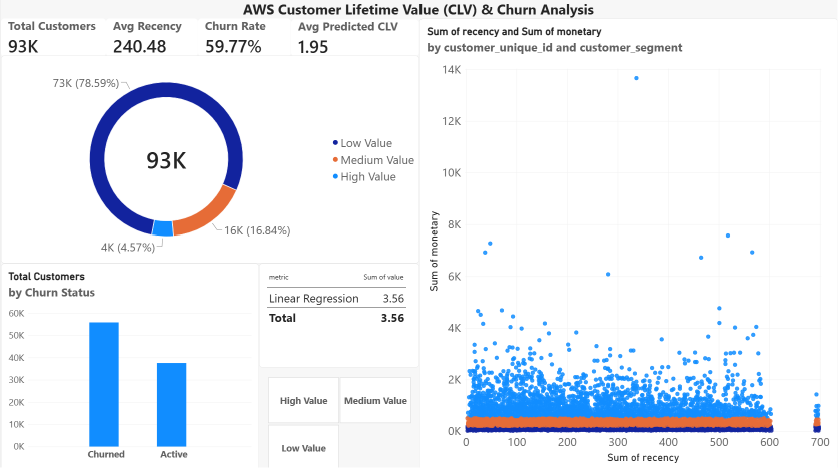

What the dashboard file says about the page in this screenshot:
{"tool":"powerbi","page":{"name":"Page 1","canvas":[1920,1080],"ordinal":0},"visuals":[{"type":"textbox","box":[555.8,0,808.4,43.6],"z":0},{"type":"cardVisual","fields":{"Data":["customer_analytics.Avg Predicted CLV"]},"box":[666,45.9,294,85],"z":1000},{"type":"cardVisual","fields":{"Data":["customer_analytics.Avg Recency"]},"box":[241.1,43.6,211.3,87.3],"z":2000},{"type":"cardVisual","fields":{"Data":["customer_analytics.Churn Rate"]},"box":[452.4,43.6,213.6,87.3],"z":3000},{"type":"cardVisual","fields":{"Data":["customer_analytics.Total Customers"]},"box":[0,43.6,241.1,87.3],"z":4000},{"type":"donutChart","fields":{"Category":["customer_analytics.customer_segment"],"Y":["customer_analytics.Total Customers"]},"box":[0,128.6,960,475.4],"z":5000},{"type":"clusteredColumnChart","fields":{"Category":["customer_analytics.Churn Status"],"Y":["customer_analytics.Total Customers"]},"box":[0,604,592.5,475.4],"z":6000},{"type":"tableEx","fields":{"Values":["clv_model_metrics.metric","Sum(clv_model_metrics.value)"]},"box":[592.5,604,367.5,238.9],"z":7000},{"type":"scatterChart","fields":{"Category":["customer_analytics.customer_unique_id"],"Series":["customer_analytics.customer_segment"],"X":["Sum(customer_analytics.recency)"],"Y":["Sum(customer_analytics.monetary)"]},"box":[960,43.6,960,1035.8],"z":8000},{"type":"slicer","fields":{"Values":["customer_analytics.customer_segment"]},"box":[592.5,863.5,367.5,218.2],"z":9000}]}

Visuals, with their boxes in screenshot pixels (x1, y1, x2, y2), scaled from the page's 1920x1080 canvas onto the 838x468 screenshot:
textbox: bbox(243, 0, 595, 19)
cardVisual - customer_analytics.Avg Predicted CLV: bbox(291, 20, 419, 57)
cardVisual - customer_analytics.Avg Recency: bbox(105, 19, 197, 57)
cardVisual - customer_analytics.Churn Rate: bbox(197, 19, 291, 57)
cardVisual - customer_analytics.Total Customers: bbox(0, 19, 105, 57)
donutChart - customer_analytics.customer_segment x customer_analytics.Total Customers: bbox(0, 56, 419, 262)
clusteredColumnChart - customer_analytics.Churn Status x customer_analytics.Total Customers: bbox(0, 262, 259, 467)
tableEx - clv_model_metrics.metric x Sum(clv_model_metrics.value): bbox(259, 262, 419, 365)
scatterChart - customer_analytics.customer_unique_id x customer_analytics.customer_segment: bbox(419, 19, 837, 467)
slicer - customer_analytics.customer_segment: bbox(259, 374, 419, 467)
